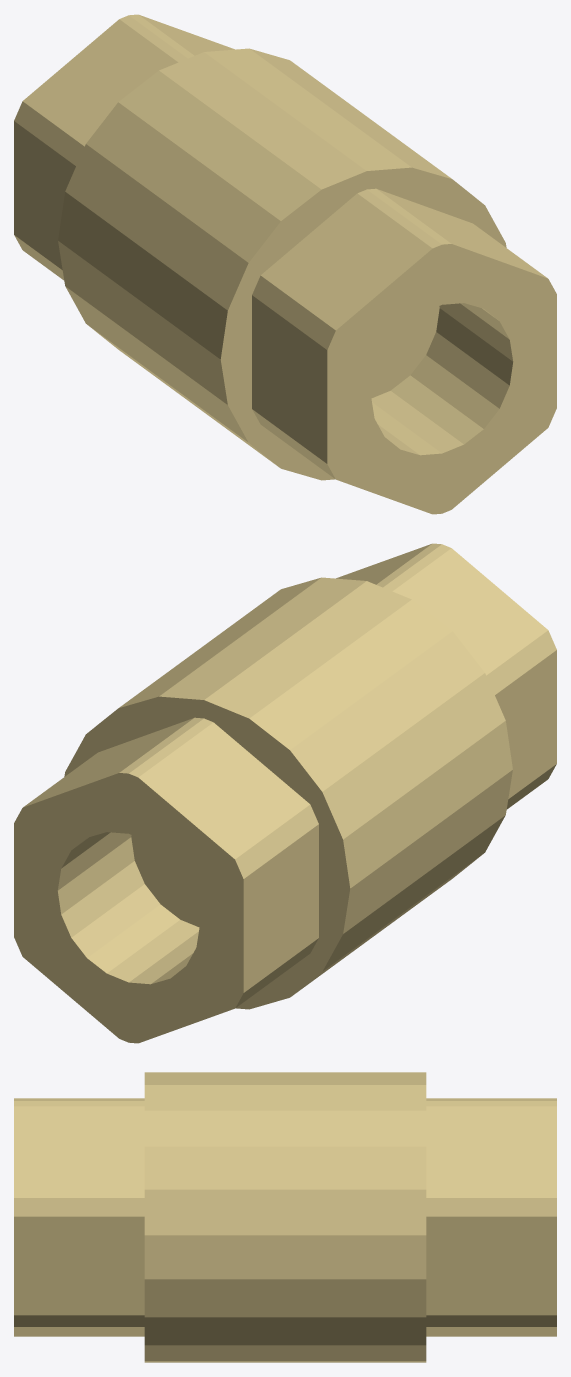
Rendered from check-valve.glb.
The picture shows the model from 3 angles, top to bottom: view 1: azimuth 30°, elevation 25°; view 2: azimuth 150°, elevation 25°; view 3: azimuth 270°, elevation 25°; orthographic projection. The views are drawn at different scales.
Parts seen in each view (by area): view 1: body, port-1, port-2; view 2: body, port-2, port-1; view 3: body, port-1, port-2.
Part boxes in pixels (box(x1,y1,x2,y2)): body: box(58, 48, 506, 480); port-1: box(252, 188, 556, 514); port-2: box(14, 14, 234, 280); body: box(64, 577, 512, 1009); port-2: box(14, 717, 318, 1043); port-1: box(336, 543, 556, 809); body: box(144, 1072, 426, 1362); port-1: box(14, 1098, 144, 1336); port-2: box(426, 1098, 556, 1336).
Size of what is drawn, in the model's own units: 0.028 by 0.028 by 0.052.
